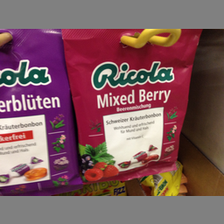candy: (62, 30, 196, 180), (1, 29, 75, 194)
